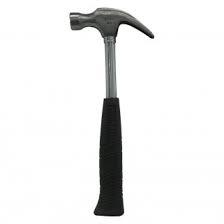hammer: (66, 5, 155, 219)
